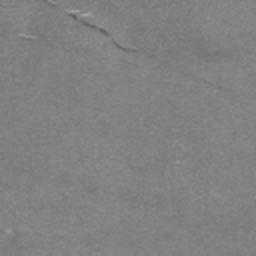Finishing roll printing: (64, 9, 137, 52), (45, 0, 57, 7)
